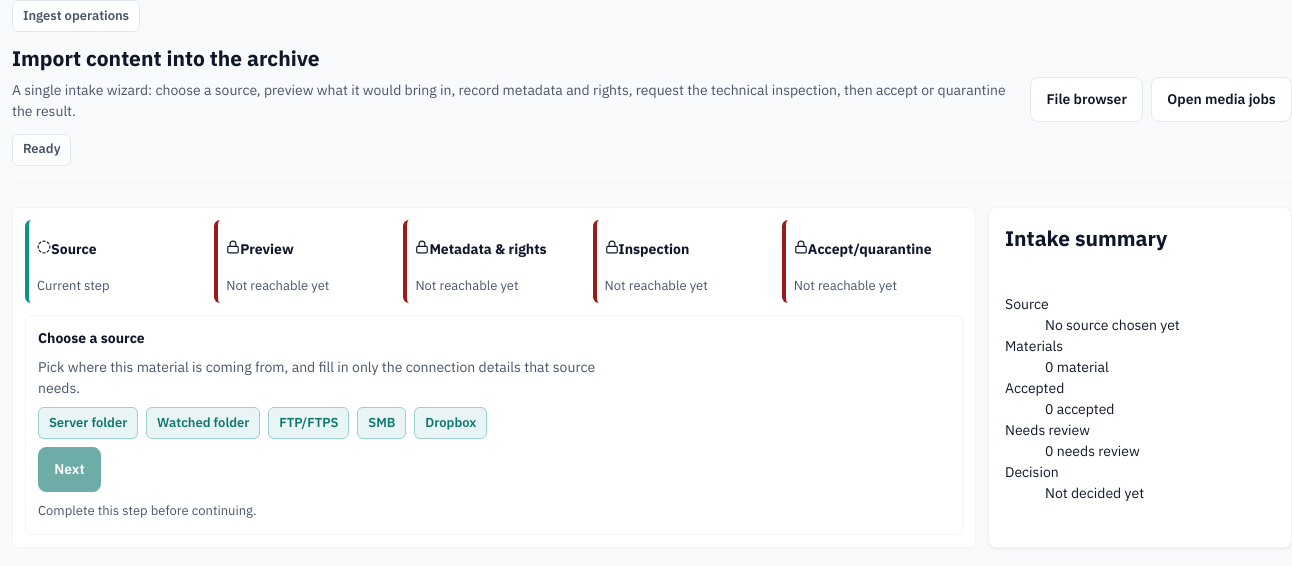
Scenario: ingest intake wizard › respects the ingest.manage capability by explaining why actions are unavailable, without a bare disabled button
Click the button "Server folder" at (88, 423), box x1=38 y1=407 x2=138 y2=439
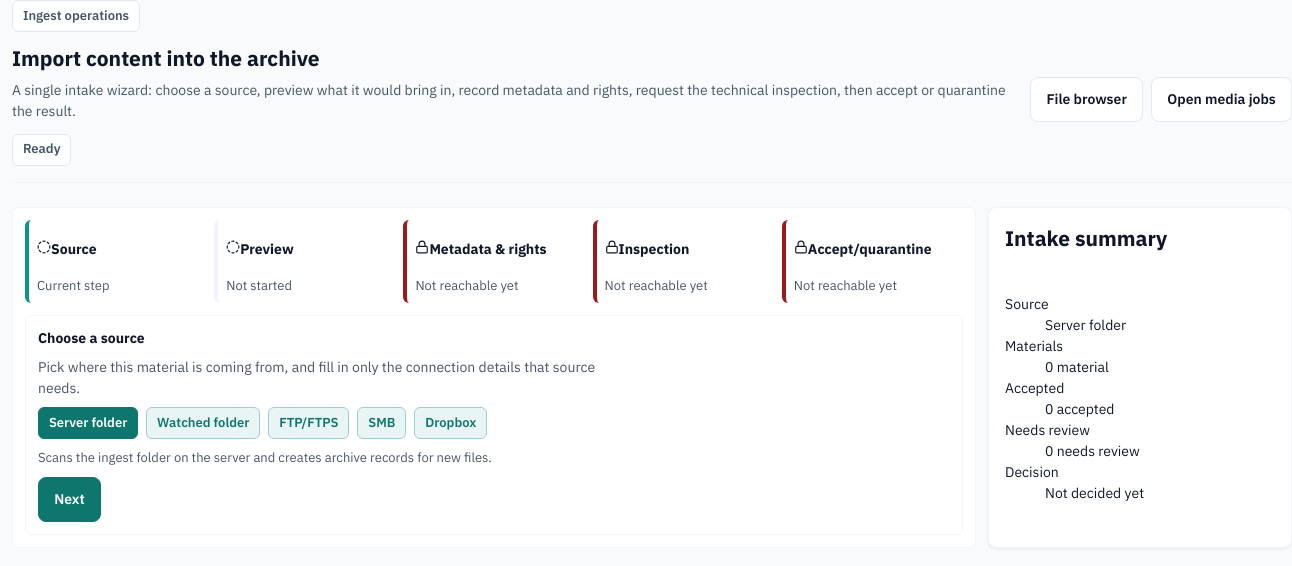
Click the button "Next" at (69, 500), box x1=38 y1=477 x2=101 y2=522
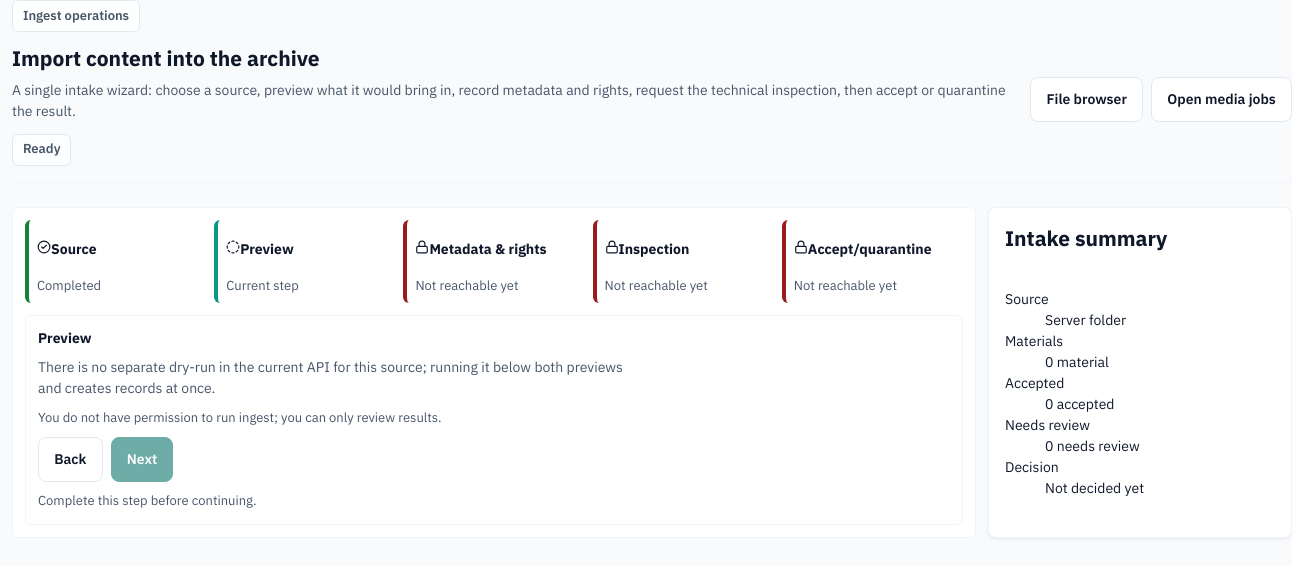
Check: the text "You do not have permission to run ingest; you can only review results." is shown, box x1=38 y1=408 x2=442 y2=427
